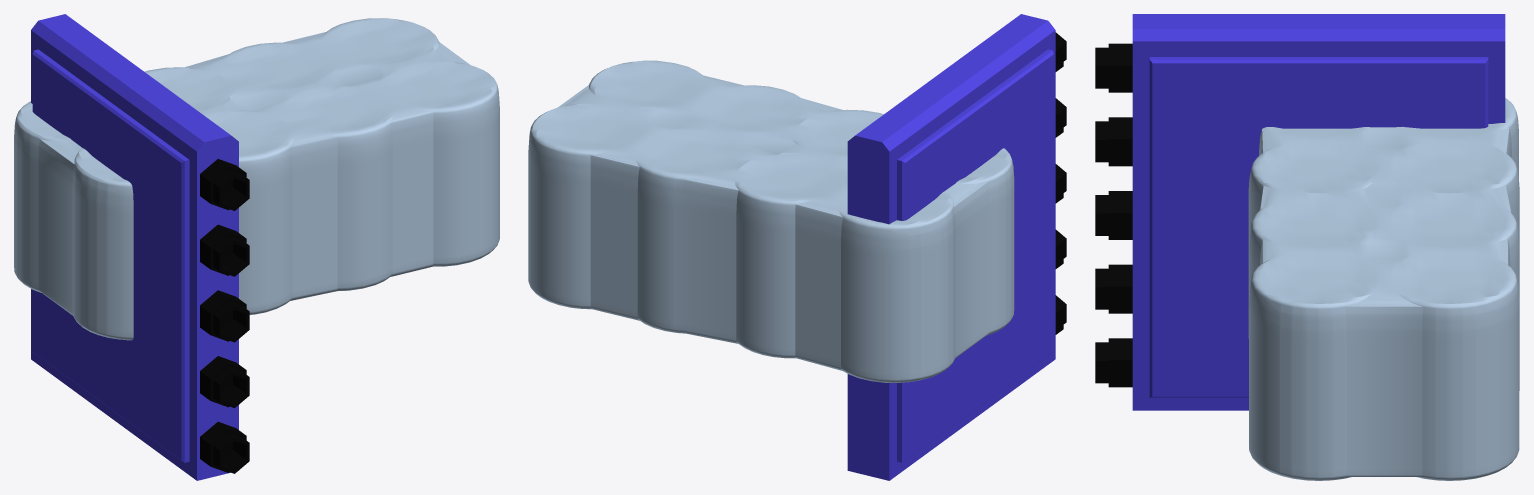
Rendered from WallTurret.fbx.
3 renders of one model, left to right at view 1: azimuth 30°, elevation 25°; view 2: azimuth 150°, elevation 25°; view 3: azimuth 270°, elevation 25°, orthographic. The views are drawn at different scales.
Visible parts, largest first — view 1: Cube.001, Cube, Cube.002; view 2: Cube.001, Cube, Cube.002; view 3: Cube.001, Cube, Cube.002.
Boxes of the visible parts, box(x1,y1,x2,y2) form: Cube.001: box(14, 18, 499, 340); Cube: box(31, 14, 238, 480); Cube.002: box(200, 159, 249, 473); Cube.001: box(528, 60, 1014, 382); Cube: box(847, 14, 1055, 480); Cube.002: box(1055, 32, 1066, 334); Cube.001: box(1248, 98, 1519, 480); Cube: box(1132, 14, 1505, 410); Cube.002: box(1095, 43, 1132, 387).
Bounding box in the file's own units: 5.14 × 4.03 × 4.1.
